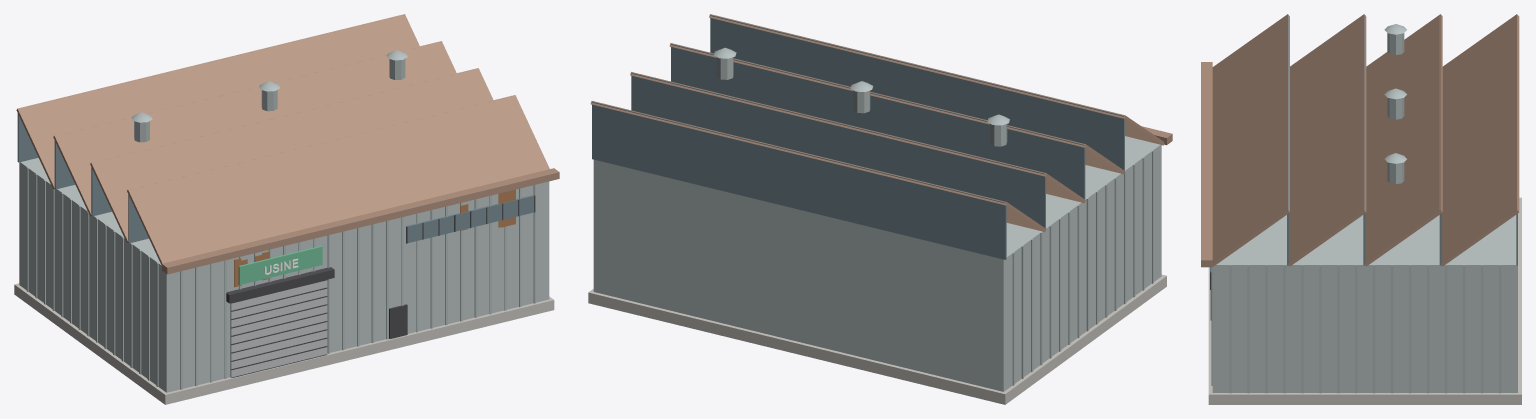
File: factory_hall.fbx
3 views of the same model, side by side, from view 1: azimuth 30°, elevation 25°; view 2: azimuth 150°, elevation 25°; view 3: azimuth 270°, elevation 25° (orthographic). The views are drawn at different scales.
Visible parts, largest first — view 1: factory_hall; view 2: factory_hall; view 3: factory_hall.
Boxes of the visible parts, <box> form: factory_hall: <box>14,14,559,404</box>; factory_hall: <box>588,14,1172,404</box>; factory_hall: <box>1201,14,1521,404</box>.
Size of the model in its own units: 24.6 by 12.6 by 16.8.
